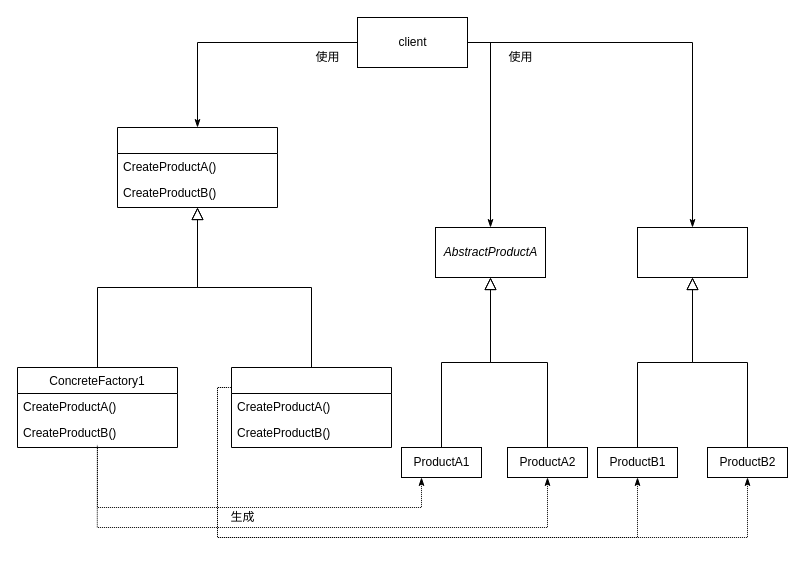
This 805x563 diagram has some shape labels left out. The box of each missing label's shape, as (x1, y1, x2, y2) in pixels:
AbstractFactory: (116, 126, 278, 208)
AbstractProductB: (636, 226, 748, 278)
ConcreteFactory2: (230, 366, 392, 448)
